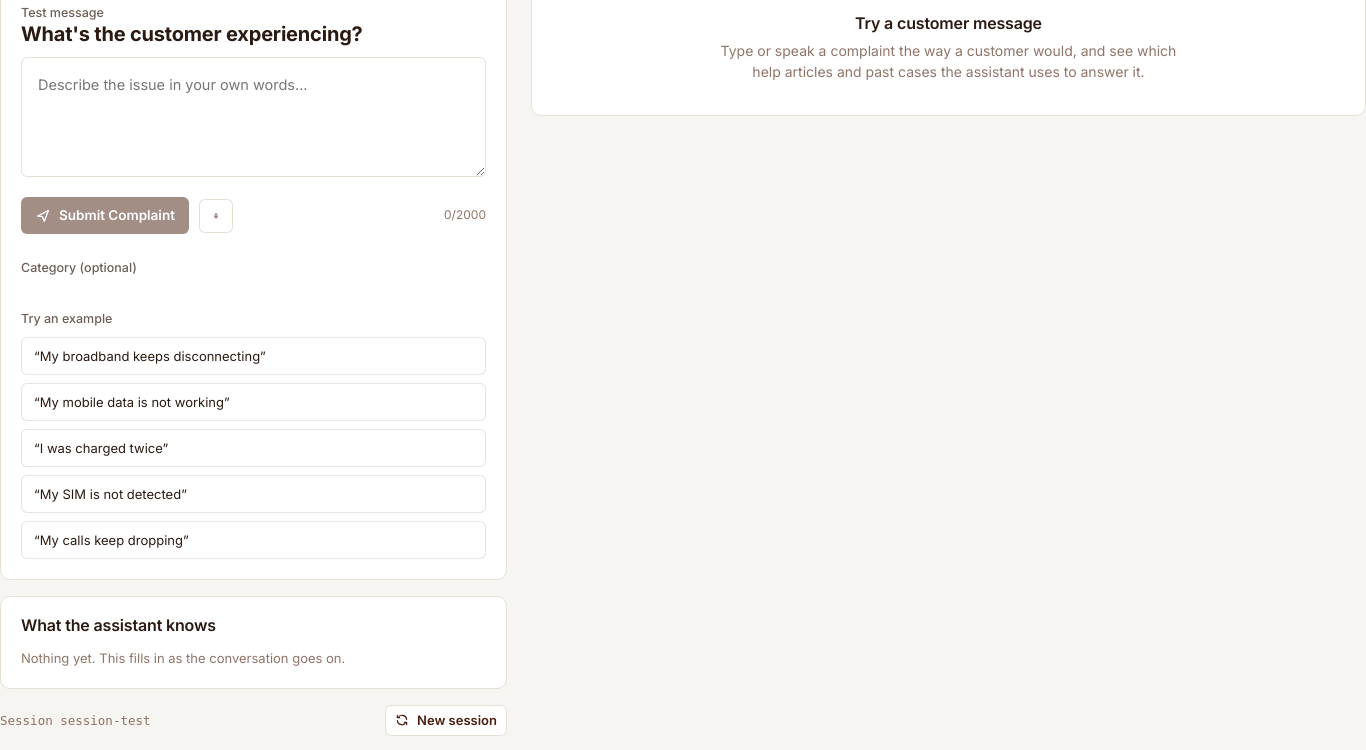
Support resolution flow (frontend E2E with mocked API) › shows the unknown-issue workflow and adaptive retry after NO
In the text box with placeholder "Describe the issue in your own words...": point(254, 117) [21,57,486,177], type "My kids smartwatch location sharing stopped"
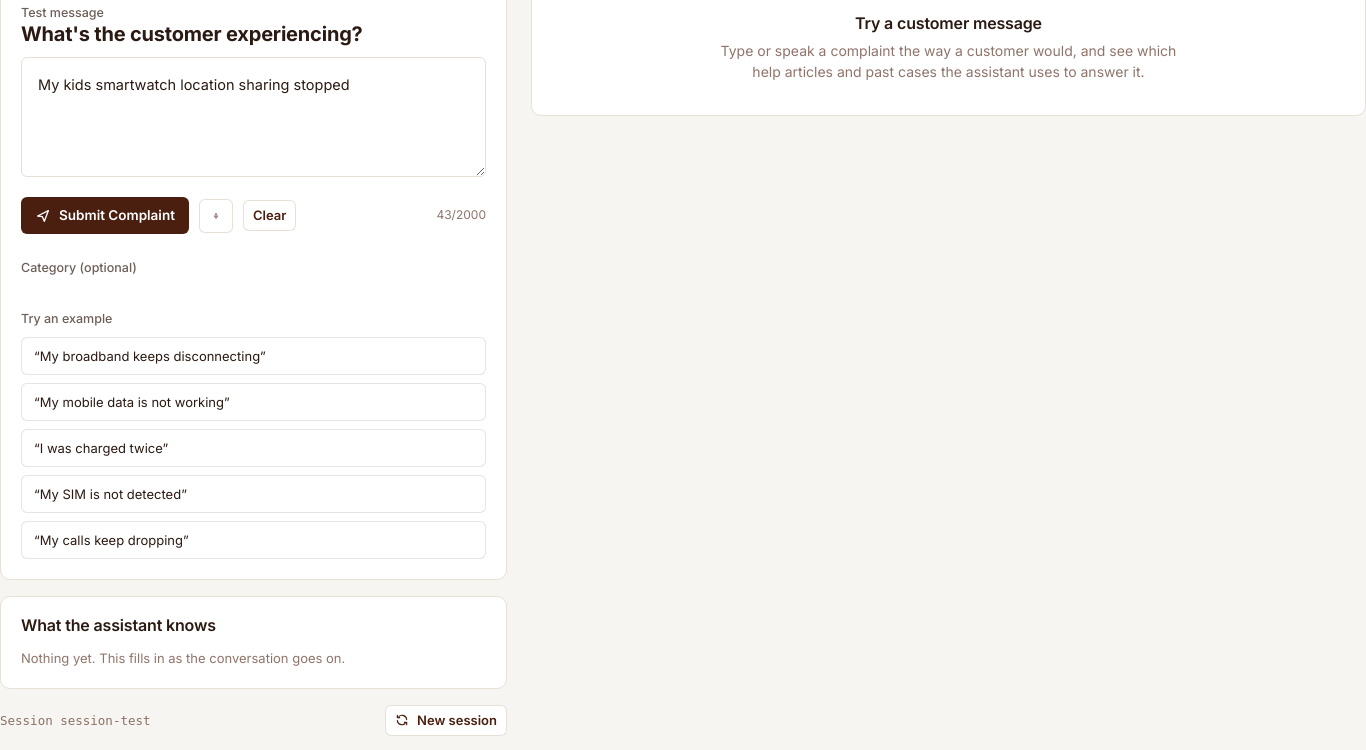
Click the button "Submit Complaint": point(105, 216) [21,197,189,234]
(page scrolled)
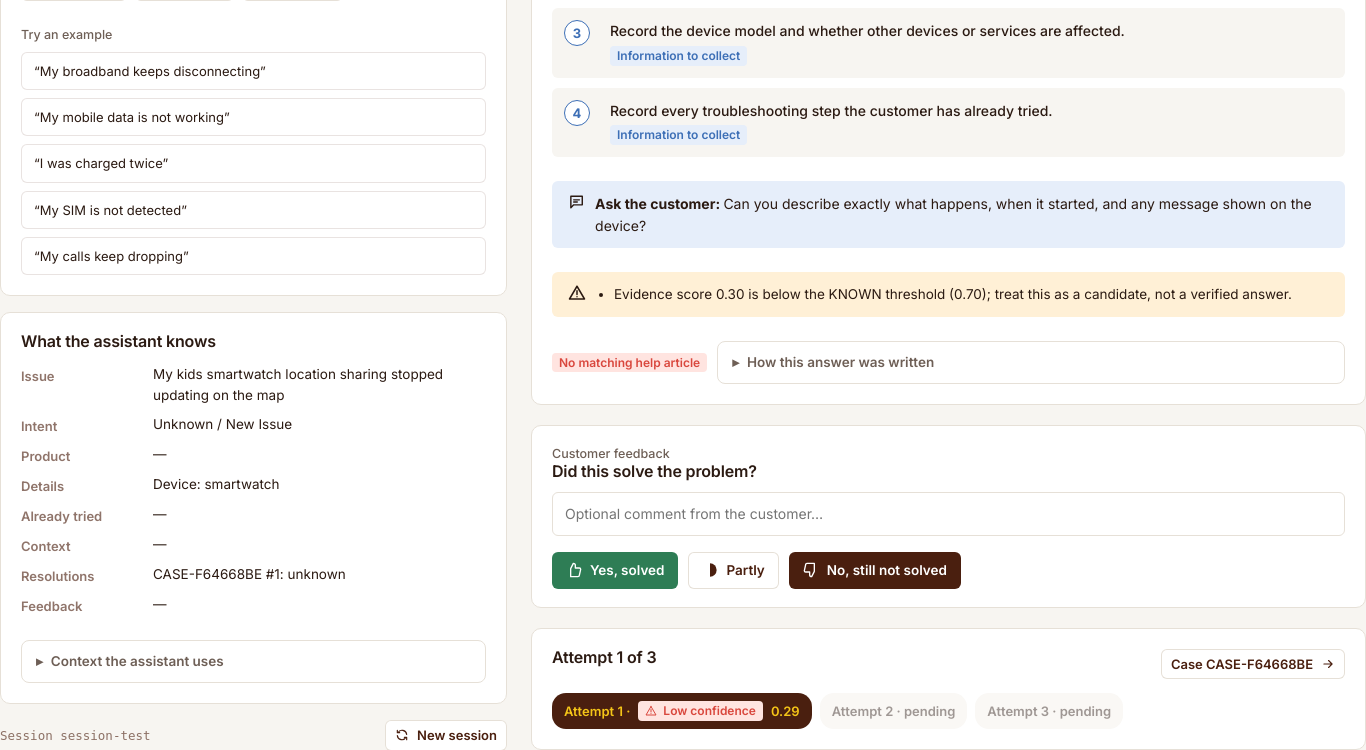
Click the button "No, still not solved": point(875, 570) [789,552,961,589]
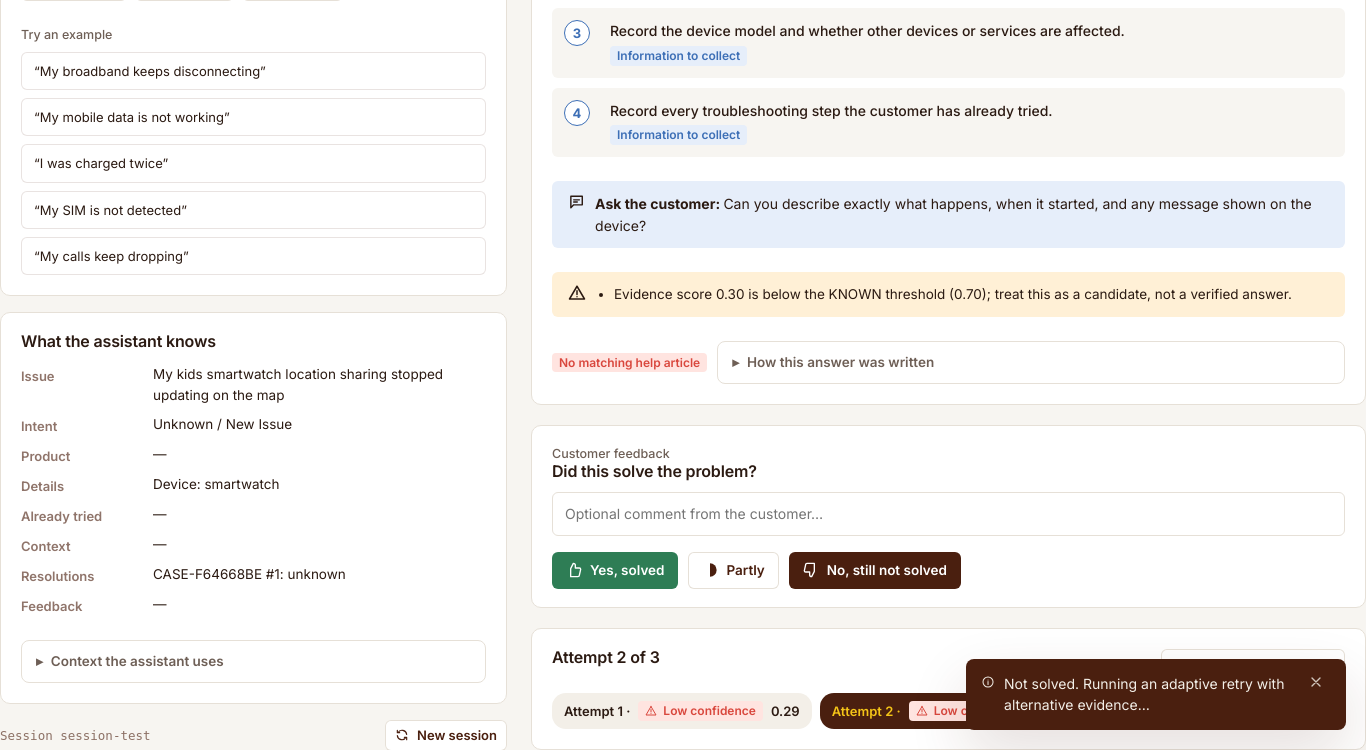
Now the heading "Attempt 2 of 3" is shown, box [552,649,660,666]
